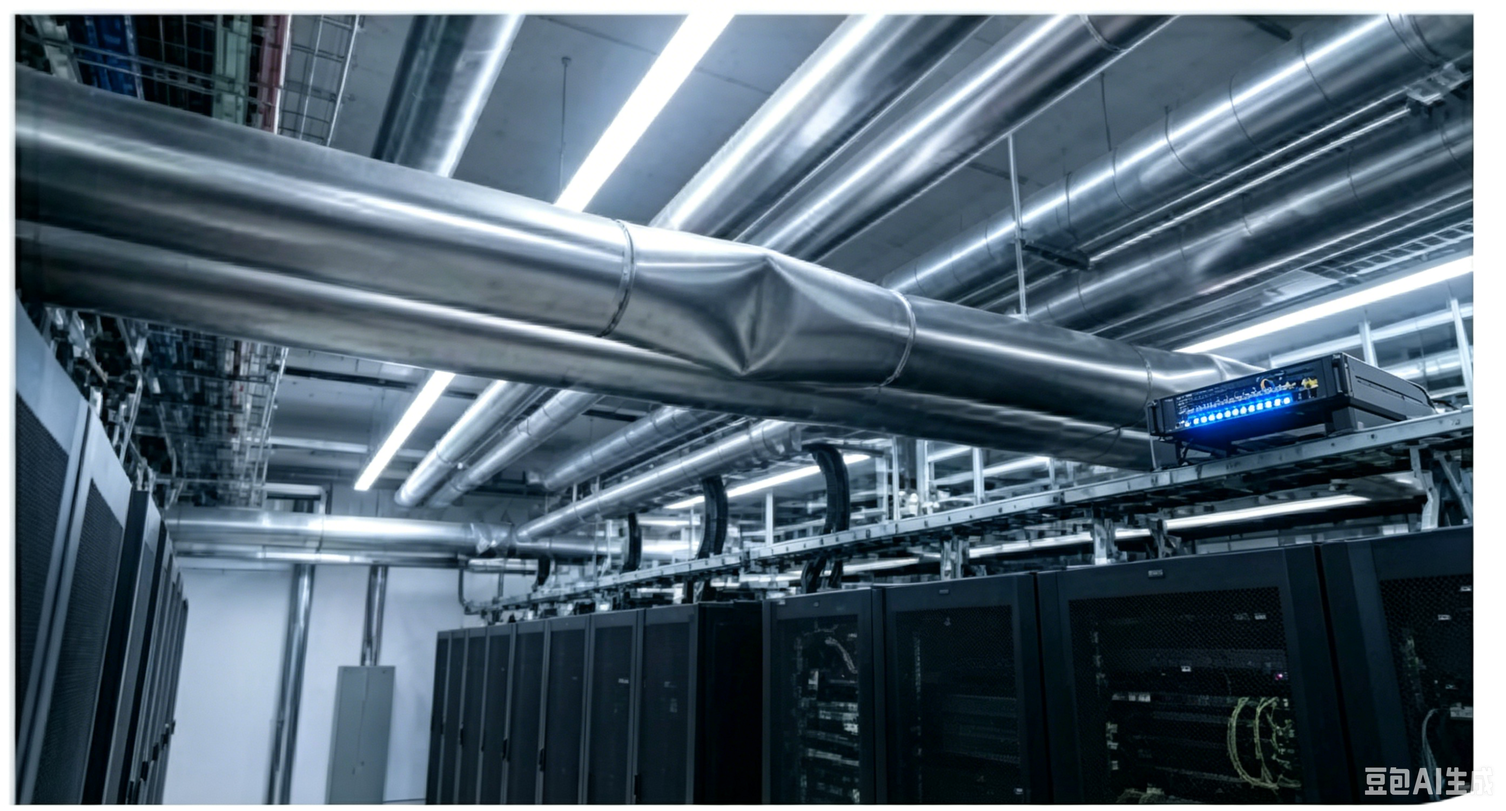Leakage: (669, 242, 825, 375)
